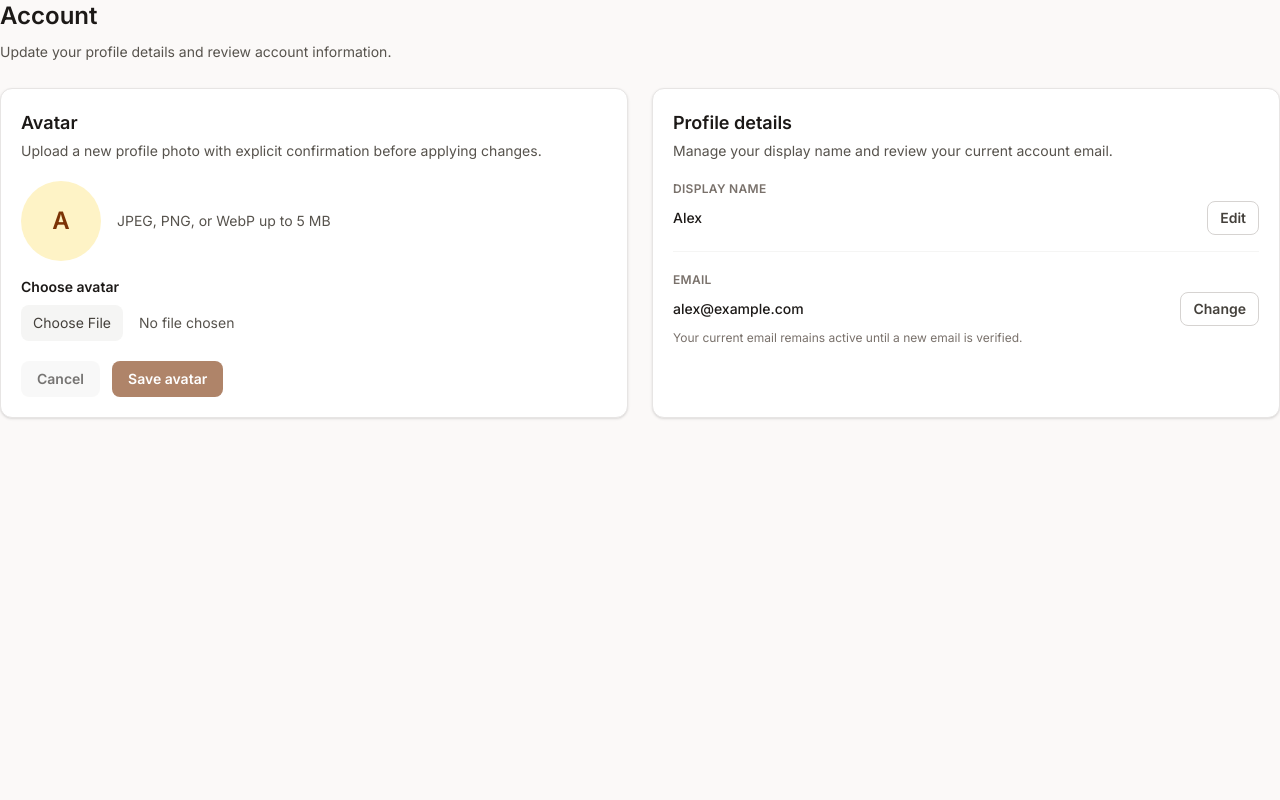
Scenario: AccountSettingsClient › display name dialog › shows validation error when display name is empty
The width and height of the screenshot is (1280, 800).
Click the button "Edit" at (1233, 218), box [1207, 201, 1259, 235]
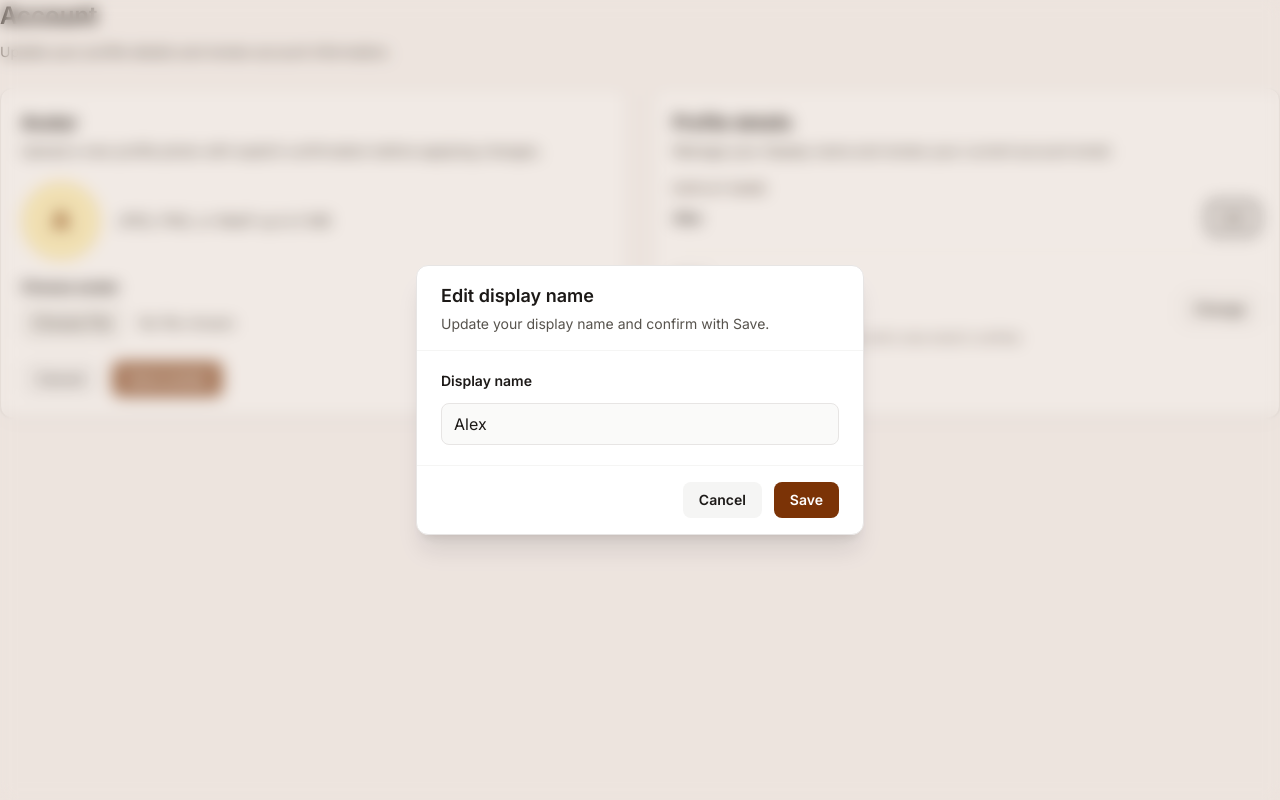
Clear the field with placeholder "Enter your display name" at (640, 424), box [441, 403, 839, 445]
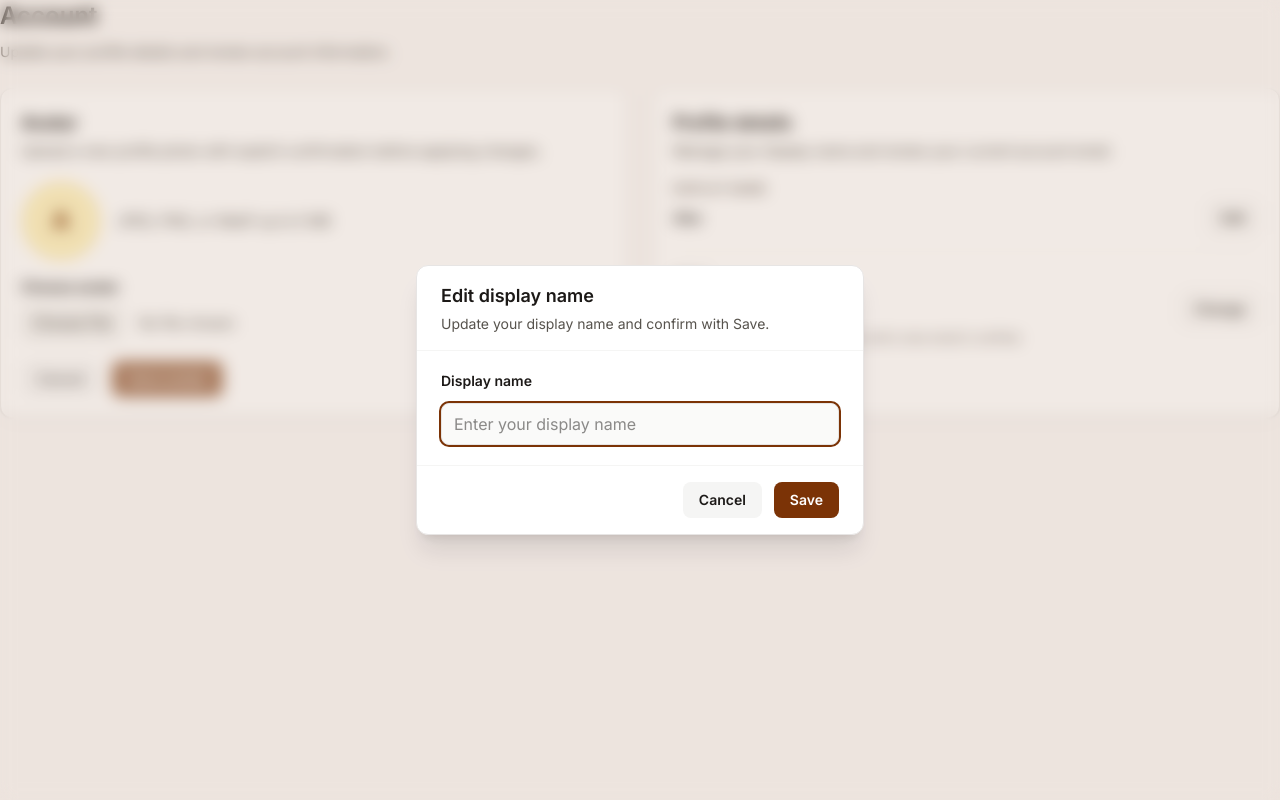
Click the button "Save" at (806, 500), box [774, 482, 839, 518]
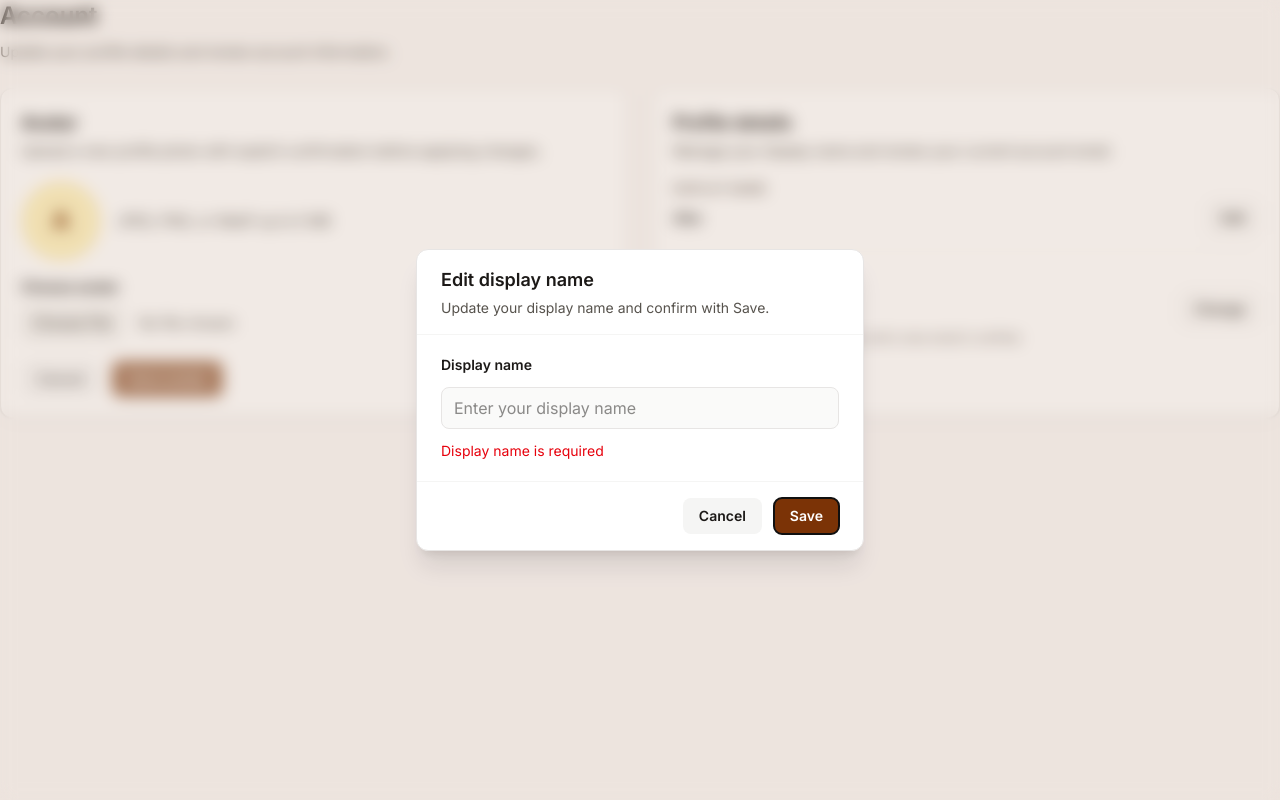
Expected: the text "Display name is required" is shown, [441, 442, 604, 459]
